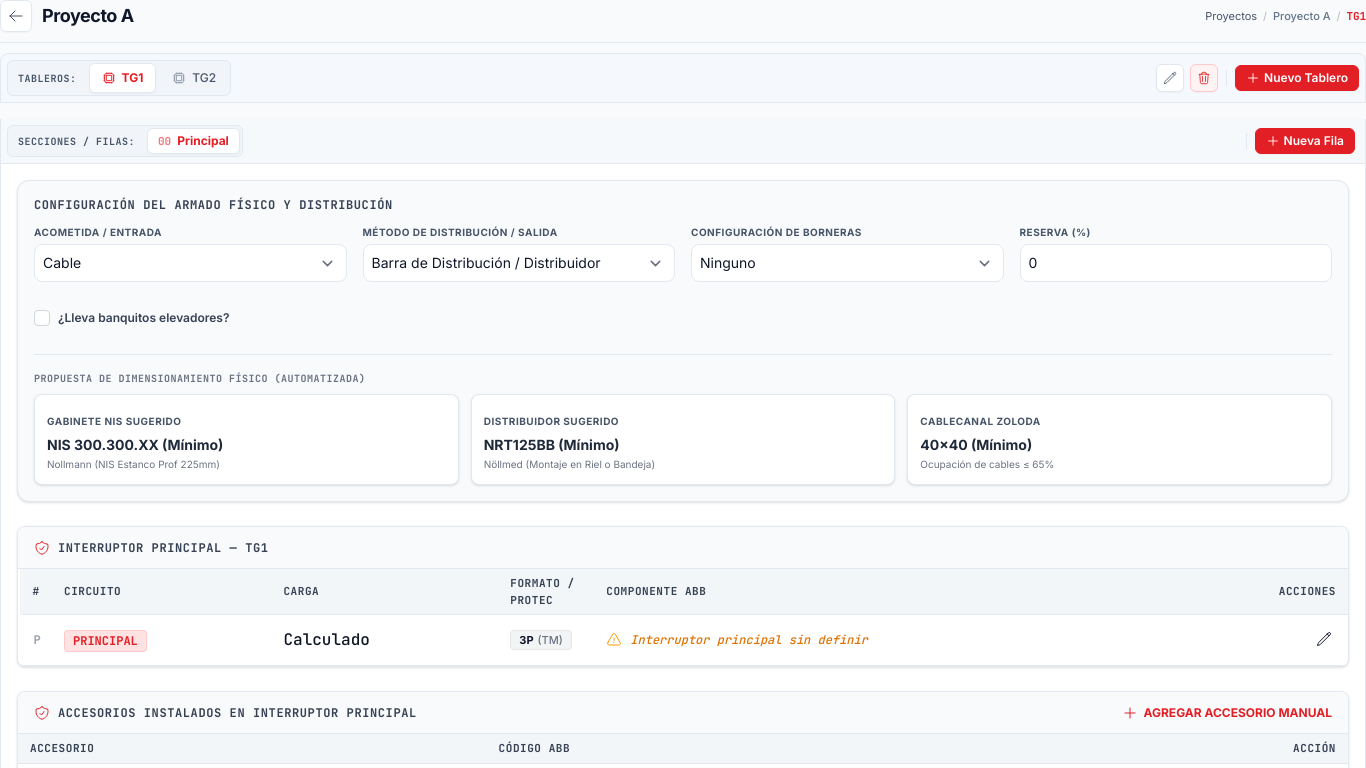
it: ProyectoWorkspacePage › closes the rename-tablero modal directly when closing via Cancelar without confirmation
Expected: the tab "TG1" is shown, [88,63,156,93]
What coordinates should you click on to do the following:
click the button named "renombrar tablero activo"
I would click on:
 (1170, 78)
Its box is [1156,64,1184,92].
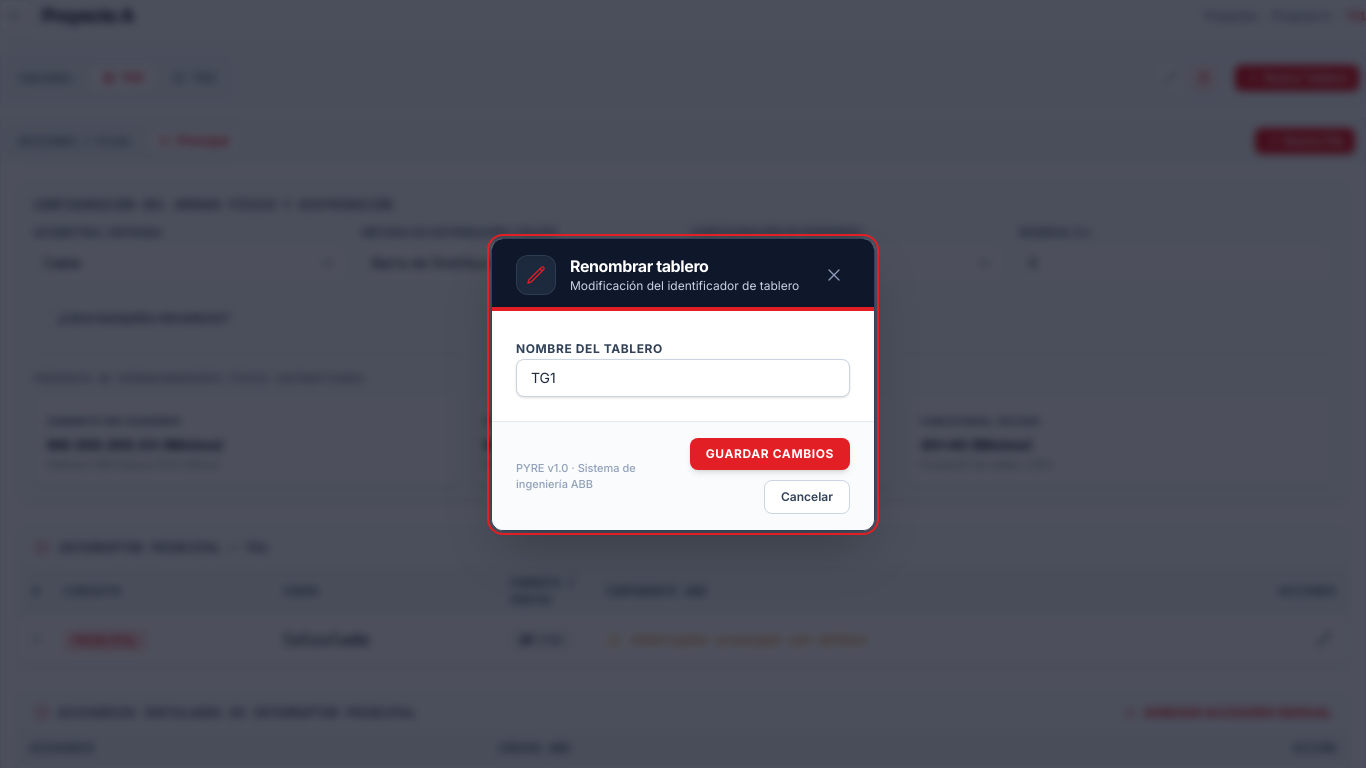
Now the dialog is shown, box [491,238,875,530]
What coordinates should you click on to do the following:
click the button "Cancelar"
I would click on:
 (807, 496)
Its box is [764,480,850,514].
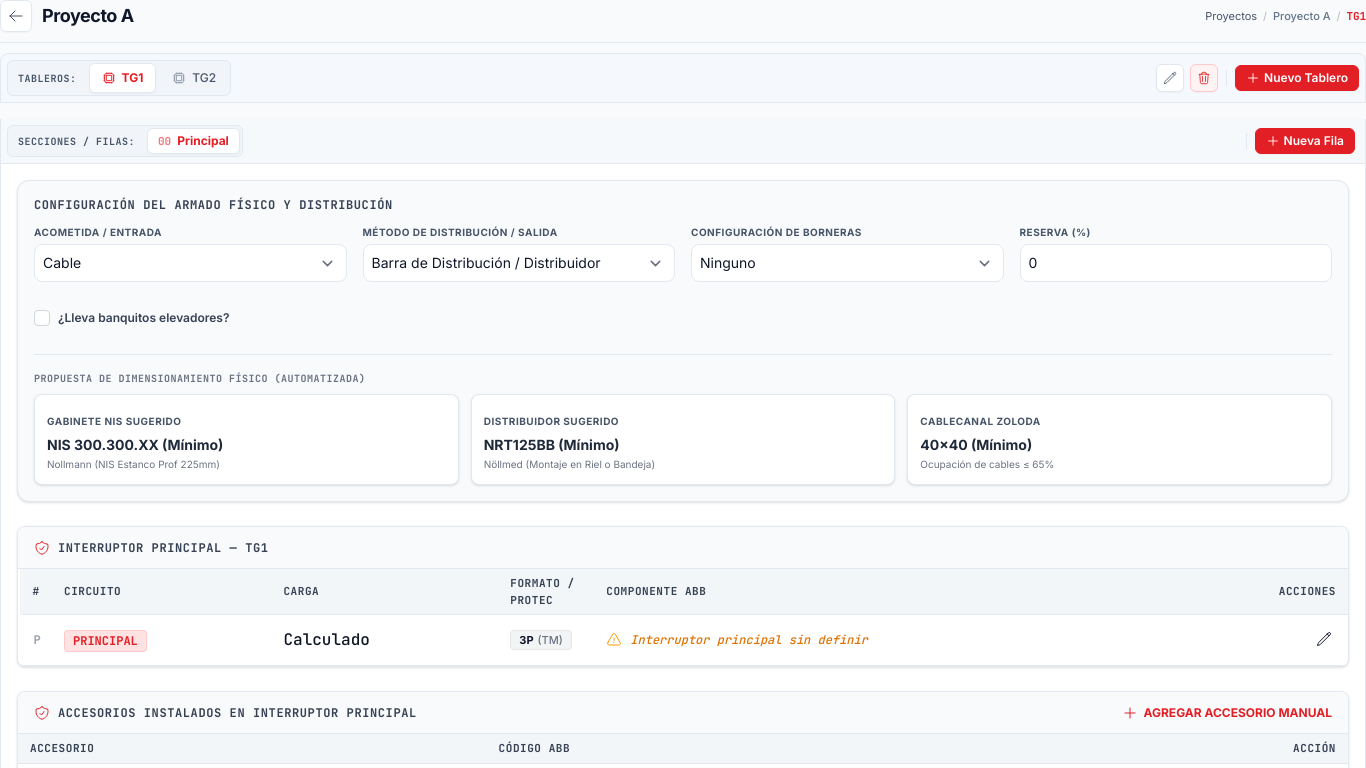
Now the dialog is gone
